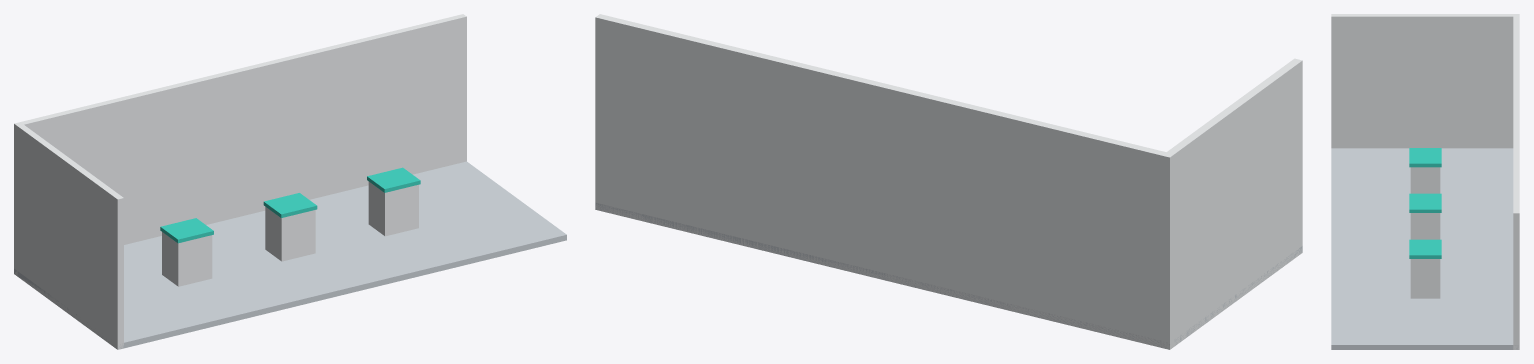
The picture shows the model from 3 angles, left to right: view 1: azimuth 30°, elevation 25°; view 2: azimuth 150°, elevation 25°; view 3: azimuth 270°, elevation 25°; orthographic projection. The views are drawn at different scales.
Visible parts, largest first — view 1: Exhibition Booth Concept; view 2: Exhibition Booth Concept; view 3: Exhibition Booth Concept.
Part boxes in pixels (left/top/right/bottom): Exhibition Booth Concept: left=14, top=14, right=566, bottom=349; Exhibition Booth Concept: left=595, top=14, right=1302, bottom=349; Exhibition Booth Concept: left=1331, top=14, right=1519, bottom=349.
Size of the model in its own units: 10 by 3.2 by 4.
